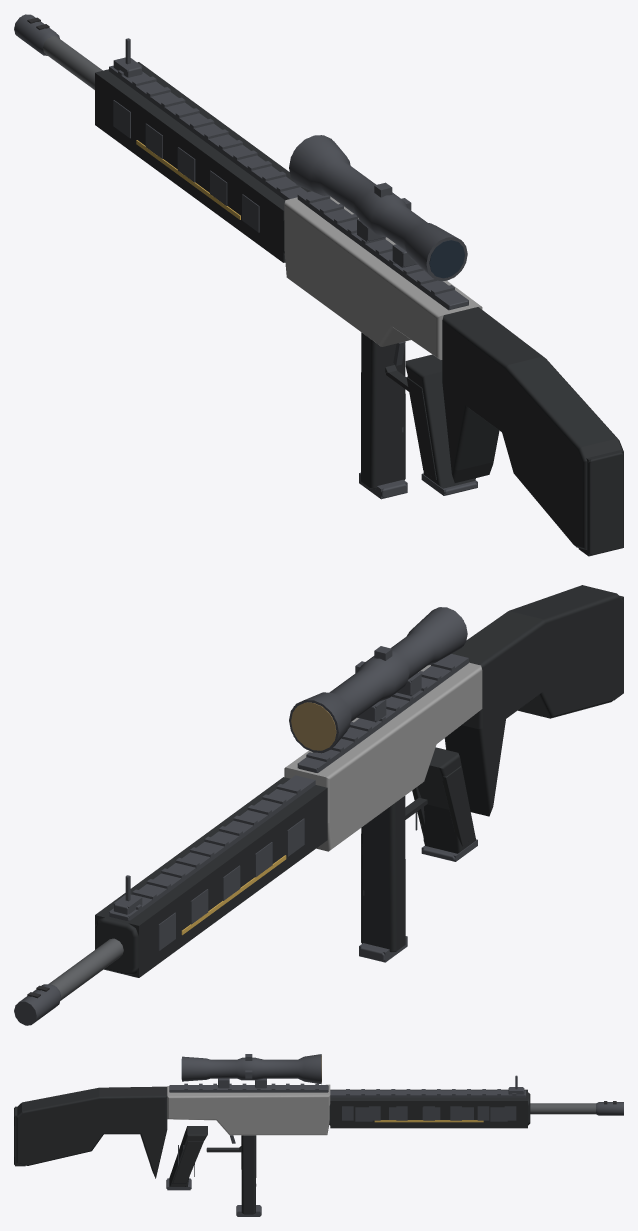
File: d_sentry.glb
3 renders of one model, top to bottom at view 1: azimuth 30°, elevation 25°; view 2: azimuth 150°, elevation 25°; view 3: azimuth 270°, elevation 25°, orthographic. The views are drawn at different scales.
Parts seen in each view (by area): view 1: L0, L1; view 2: L0, L1; view 3: L0, L1.
Part boxes in pixels (x1,y1,x2,y2): L0: (14, 14, 623, 555); L1: (15, 15, 623, 556); L0: (14, 585, 623, 1025); L1: (14, 596, 623, 1024); L0: (14, 1054, 623, 1215); L1: (15, 1054, 623, 1216).
Size of the model in its own units: 0.052 by 0.3 by 1.05.
